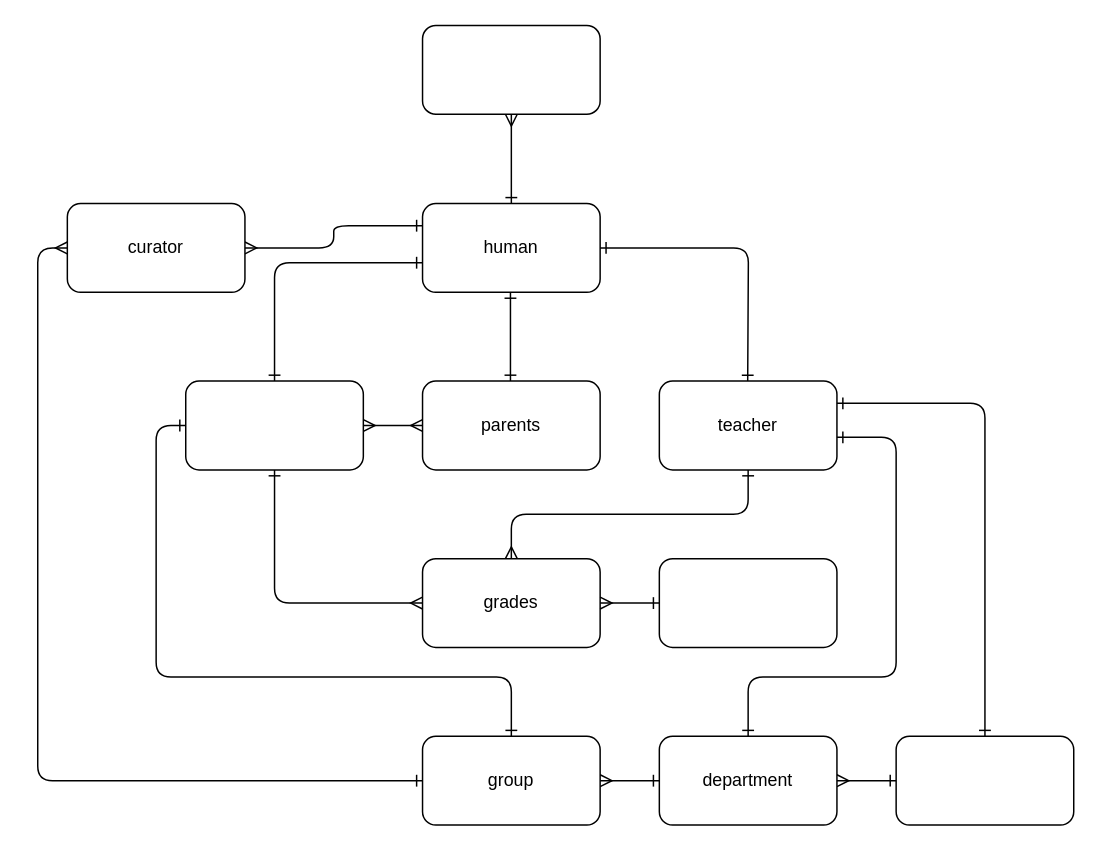
The diagram is 1100 pixels wide and 852 high, and some of its shapes have lost their labels. The shapes that lost their labels are listed below. From the top down, each one's centre as x and y in pixels, then its label:
point (510, 69): address
point (273, 425): student
point (747, 602): study_plan
point (984, 780): faculty
